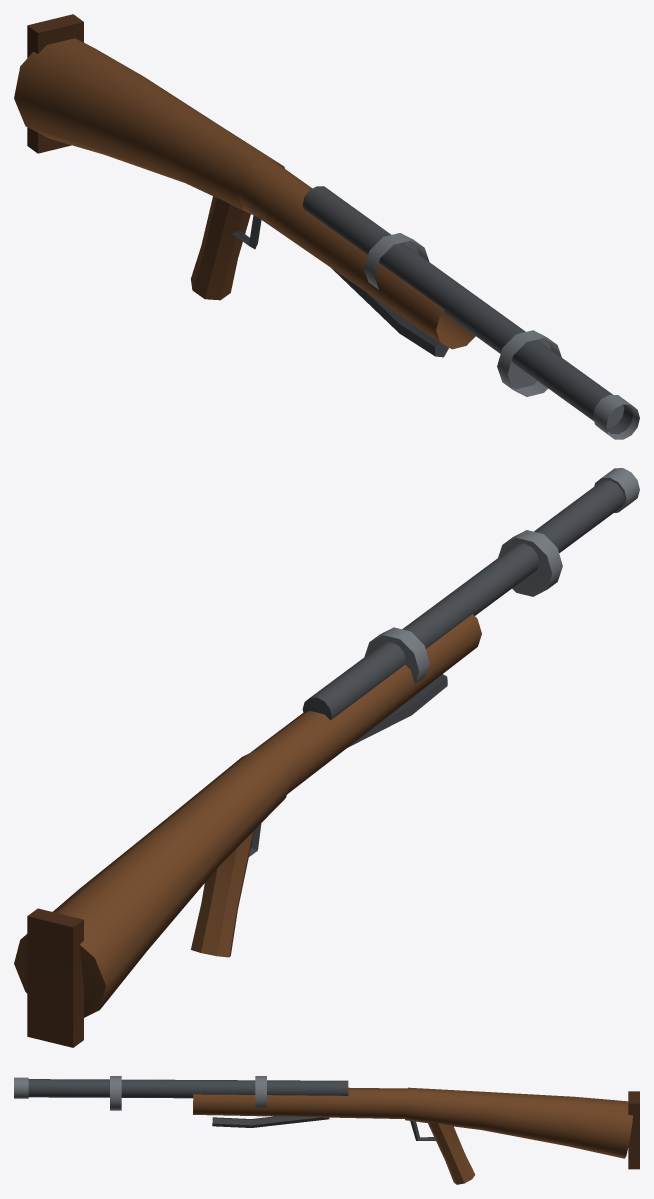
Rendered from cork_gun.glb.
3 views of the same model, one above another, from view 1: azimuth 30°, elevation 25°; view 2: azimuth 150°, elevation 25°; view 3: azimuth 270°, elevation 25° (orthographic). The views are drawn at different scales.
Parts seen in each view (by area): view 1: gun; view 2: gun; view 3: gun.
Boxes of the visible parts, x1,y1,x2,y2 form: gun: (14, 14, 639, 439); gun: (14, 468, 639, 1047); gun: (14, 1076, 639, 1184).
Bounding box in the file's own units: 0.06 × 0.1186 × 0.646.
